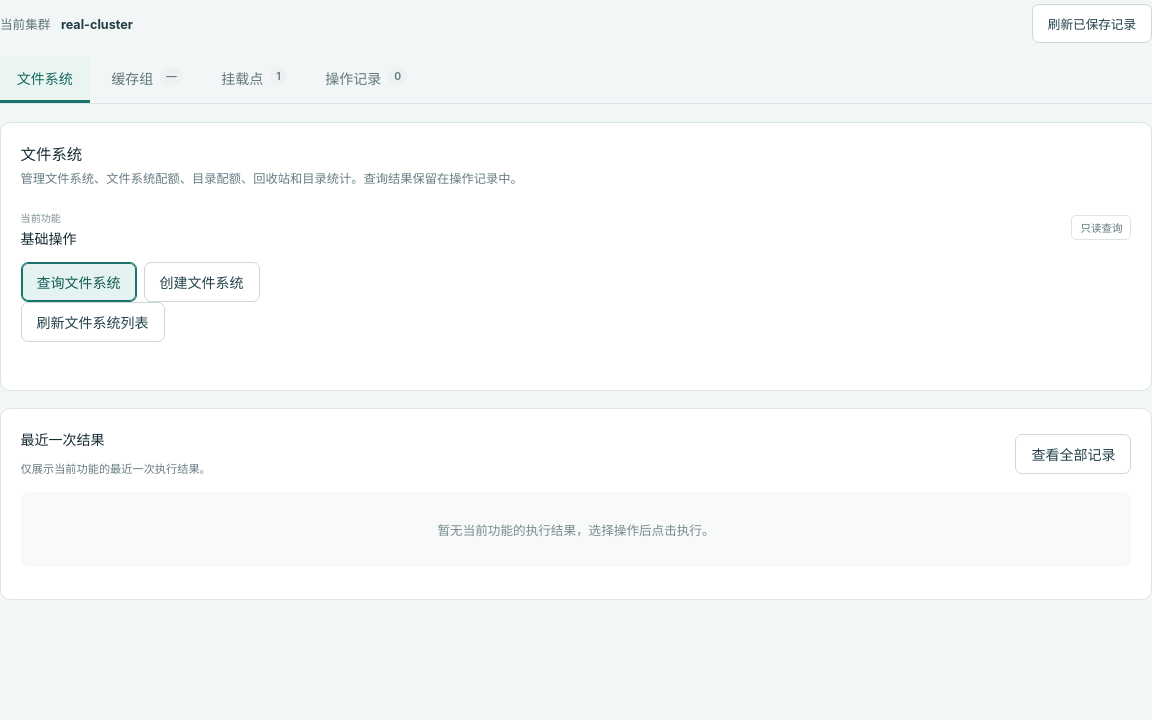
cancelling password authentication clears the challenge and shows non-rollback outcome
The image size is (1152, 720).
Click the button "文件系统". click: x=45, y=80
box: [0,56,90,103]
(page scrolled)
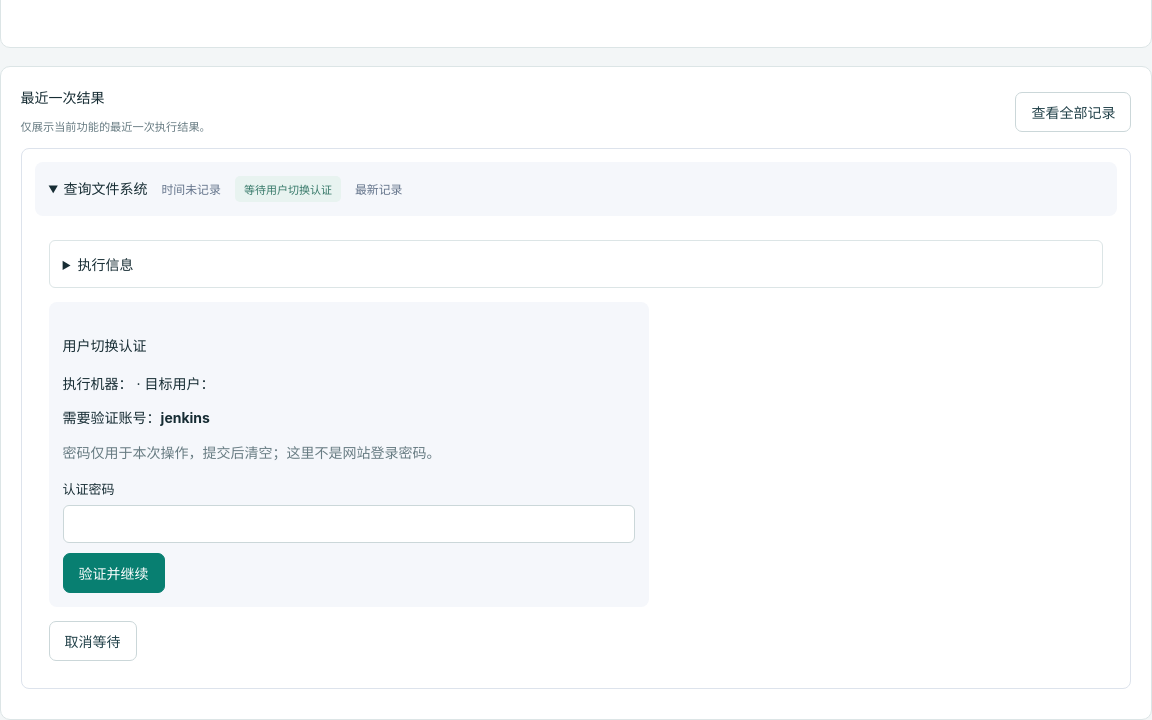
Type "erase-on-cancel" into the password field labelled "认证密码". click: x=349, y=524
box: [63,505,635,543]
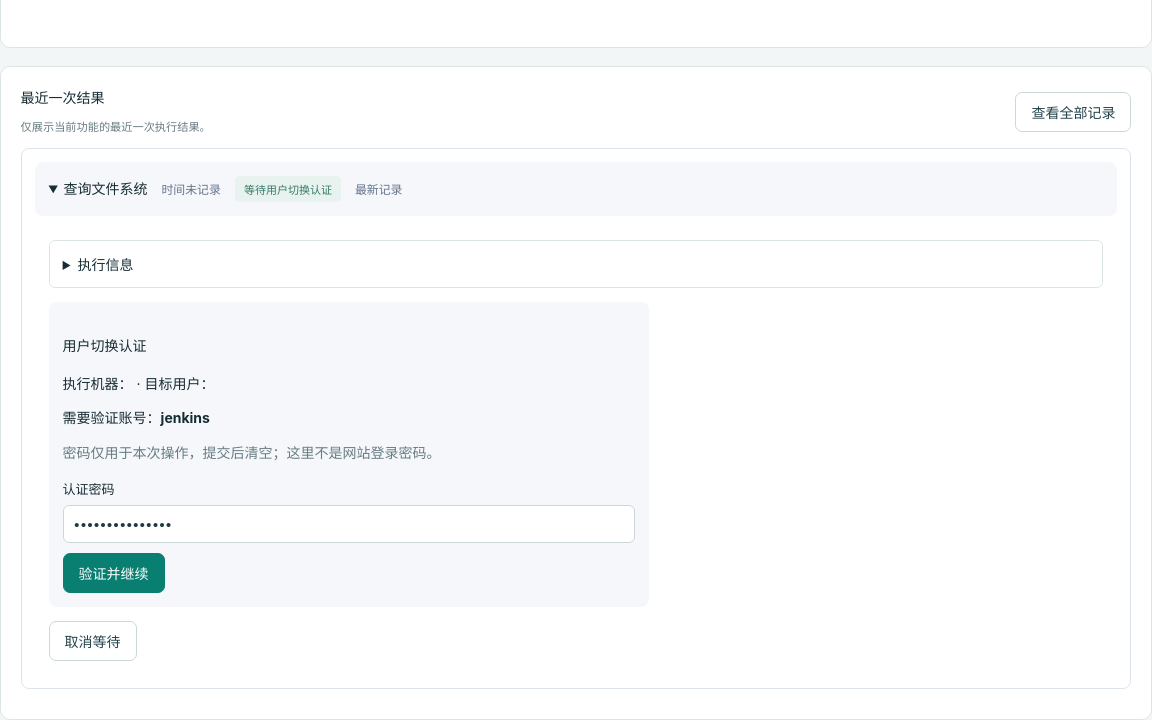
Click the button "取消等待". click: x=93, y=642
box: [49,622,137,662]
(page scrolled)
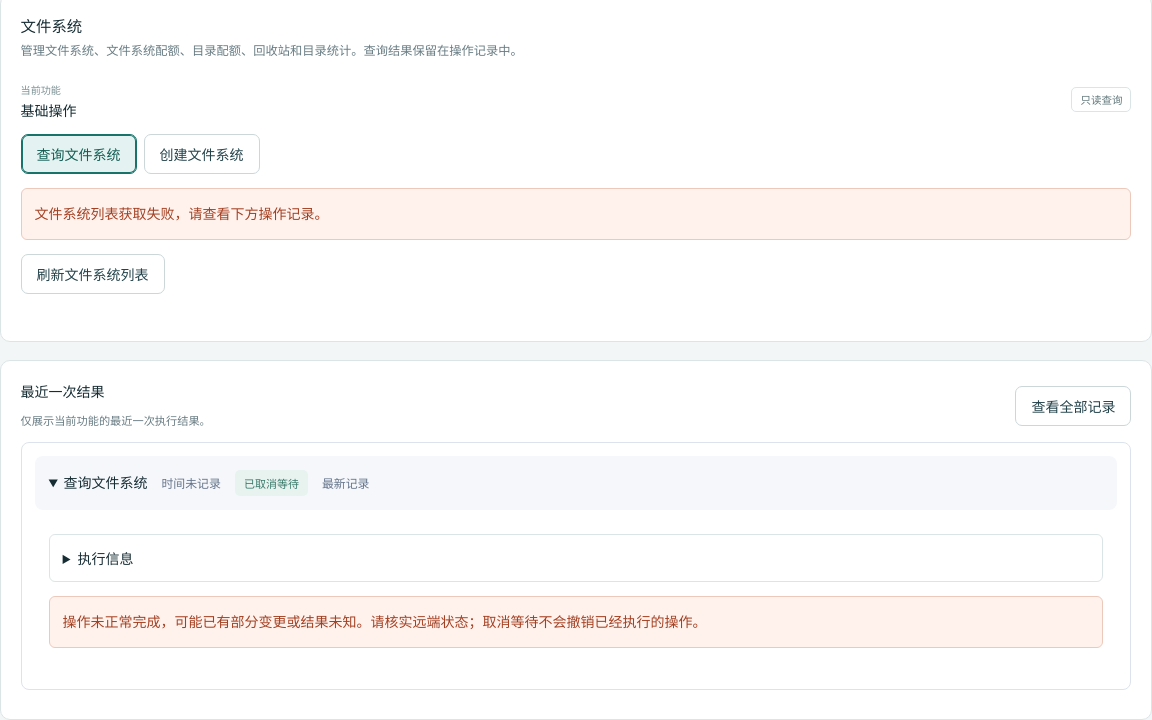
Expected: the text "操作未正常完成，可能已有部分变更或结果未知。请核实远端状态；取消等待不会撤销已经执行的操作。" is shown, [49,596,1103,648]
Expected: the label labelled "认证密码" is gone
